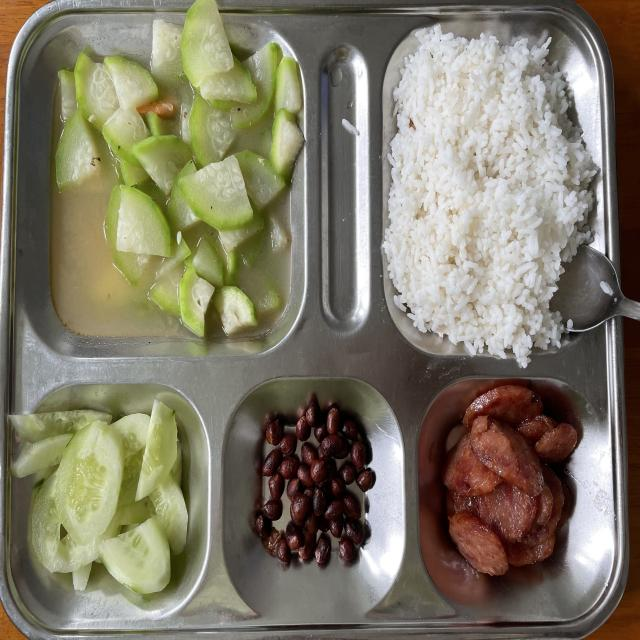canh bau: (49, 0, 304, 338)
com: (382, 26, 596, 367)
dua leo: (11, 400, 188, 594)
